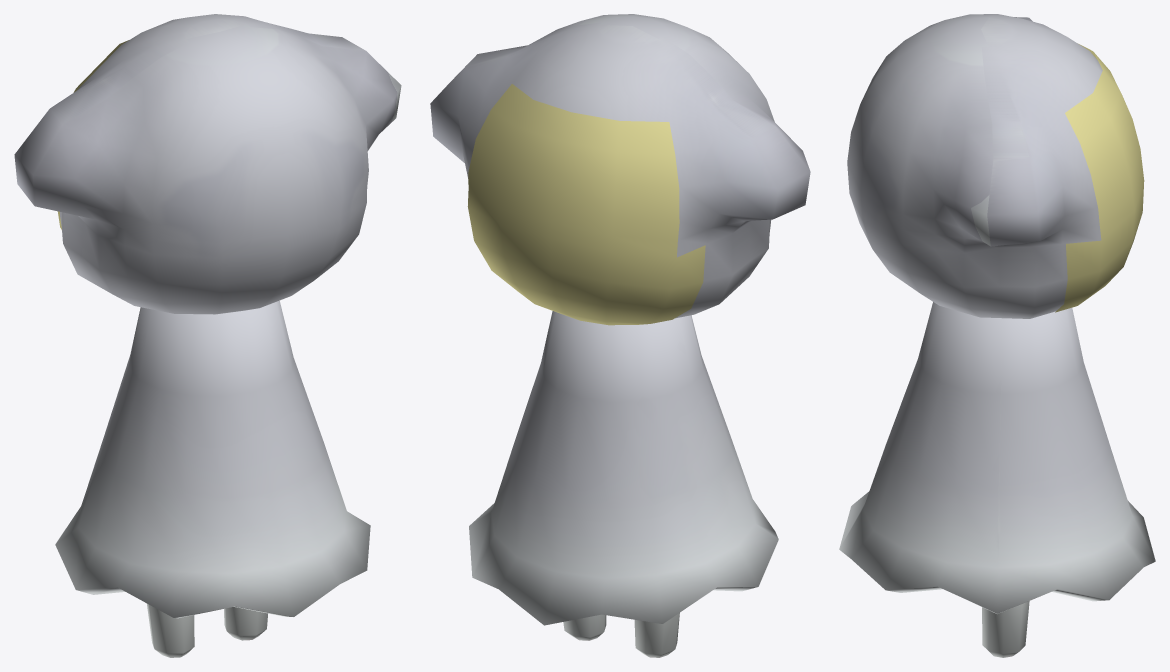
File: Eveliens Mum.fbx
3 renders of one model, left to right at view 1: azimuth 30°, elevation 25°; view 2: azimuth 150°, elevation 25°; view 3: azimuth 270°, elevation 25°, orthographic. The views are drawn at different scales.
Visible parts, largest first — view 1: Evelien Head, Evelien Body, Evelien Legs; view 2: Evelien Body, Evelien Head, Evelien Face, Evelien Legs; view 3: Evelien Body, Evelien Head, Evelien Face, Evelien Legs.
Part boxes in pixels (x1,y1,x2,y2): Evelien Head: (14,14,401,314); Evelien Body: (55,300,370,618); Evelien Legs: (146,603,267,657); Evelien Body: (469,311,778,625); Evelien Head: (430,14,810,318); Evelien Face: (467,84,705,325); Evelien Legs: (563,613,679,657); Evelien Body: (839,302,1155,613); Evelien Head: (847,14,1102,318); Evelien Face: (1055,44,1144,312); Evelien Legs: (982,601,1029,657).
Bounding box in the file's own units: 285 × 460 × 217.
